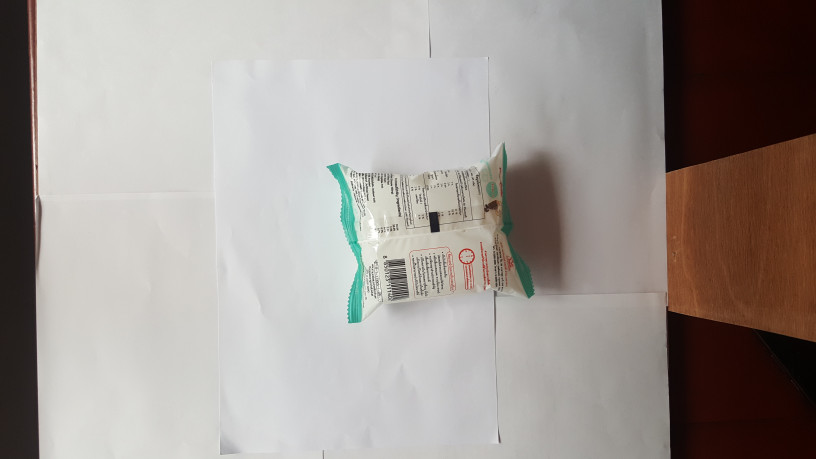farmhouse-sweetsandwich-chocolate: (325, 143, 542, 326)
